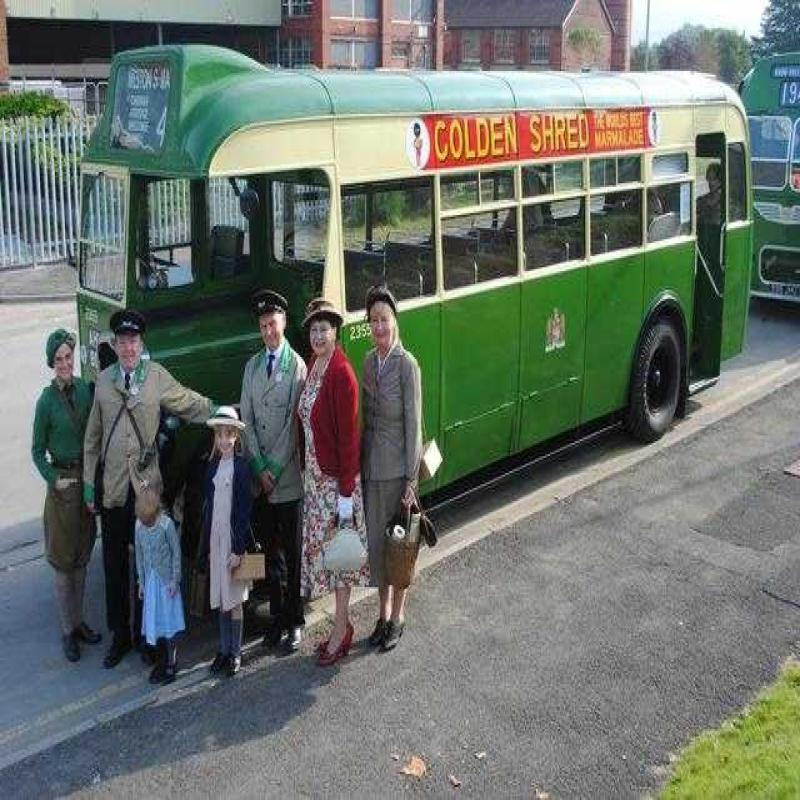bus: (68, 2, 762, 396)
